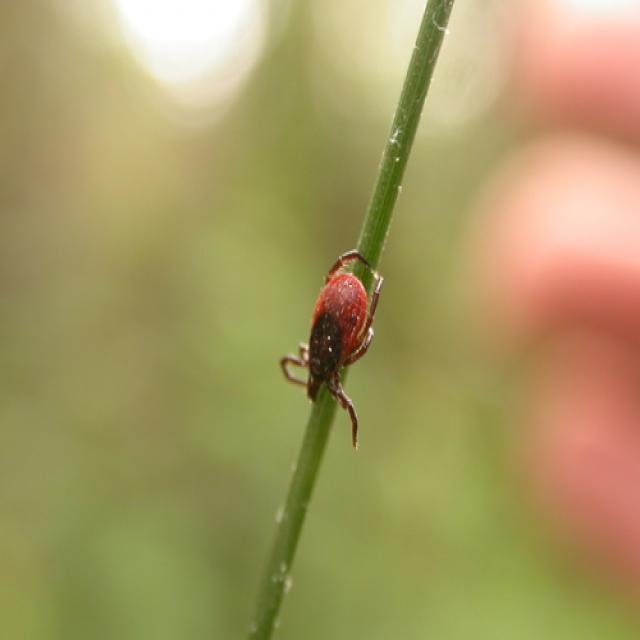Ixodes Ricinus-F: (279, 254, 385, 452)
